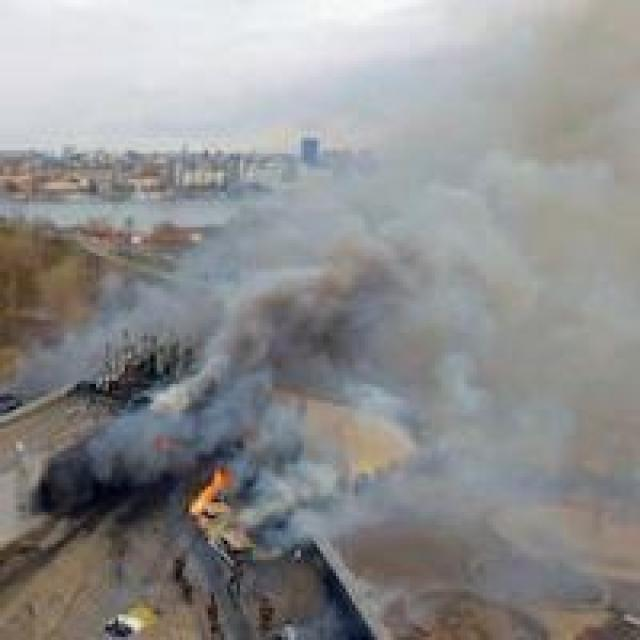Fire: (173, 468, 246, 540)
Smoke: (374, 85, 640, 325)
